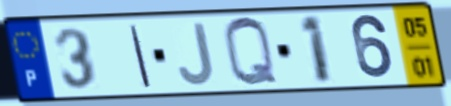1: (298, 13, 338, 86)
3: (52, 25, 98, 92)
6: (349, 12, 395, 83)
I: (127, 23, 154, 90)
J: (175, 20, 217, 88)
Q: (221, 15, 282, 90)
